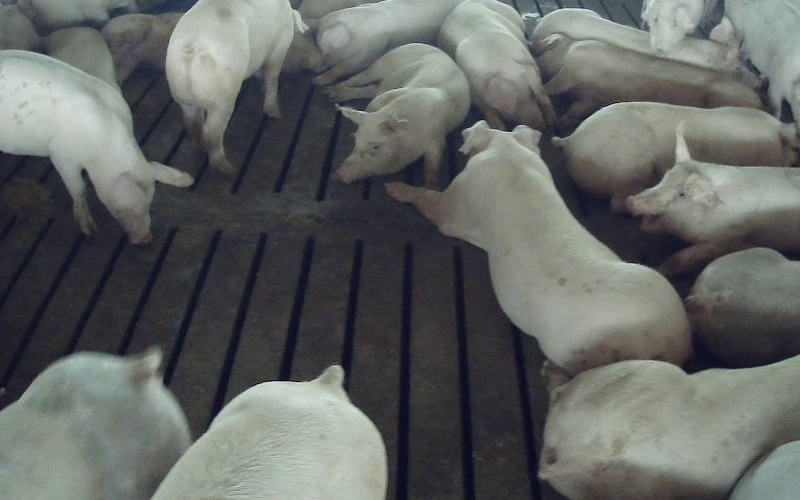pig: (387, 121, 689, 373), (539, 355, 799, 499), (153, 365, 386, 499), (0, 347, 190, 499), (553, 102, 795, 211), (627, 123, 799, 275), (533, 34, 761, 133), (327, 44, 469, 185), (531, 8, 755, 85), (438, 0, 553, 129), (685, 248, 799, 366), (725, 0, 799, 130), (102, 12, 182, 83), (44, 27, 120, 92), (642, 0, 703, 52)
